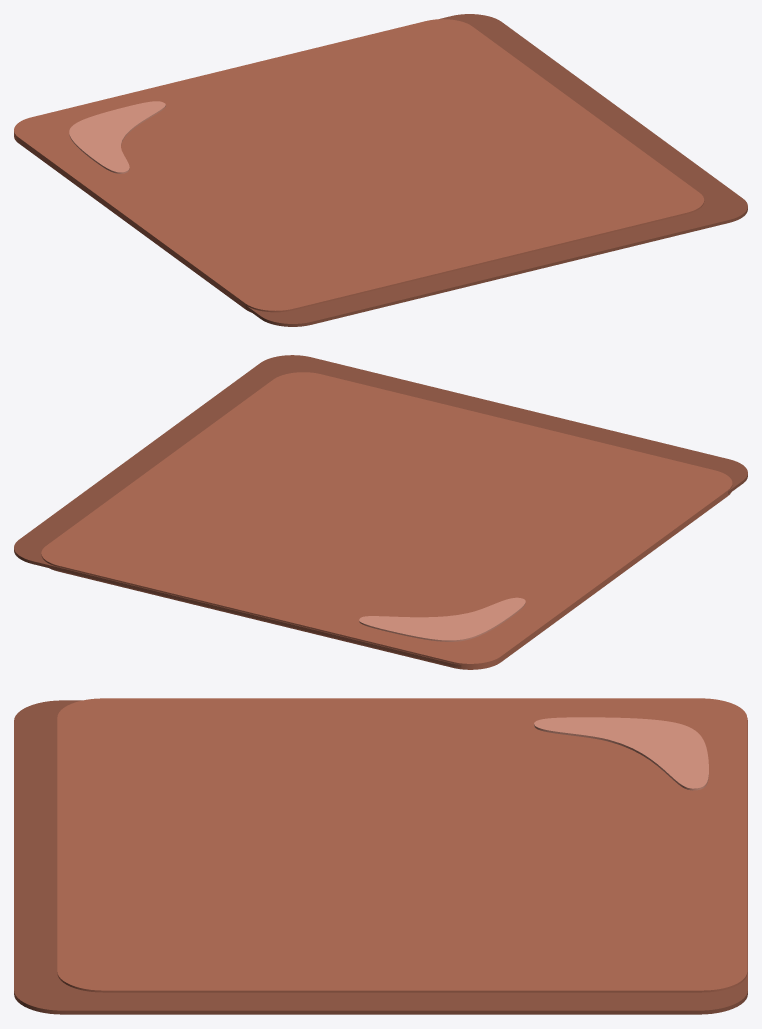
File: emoji_u1f7eb.glb
The picture shows the model from 3 angles, top to bottom: view 1: azimuth 30°, elevation 25°; view 2: azimuth 150°, elevation 25°; view 3: azimuth 270°, elevation 25°; orthographic projection. The views are drawn at different scales.
Parts seen in each view (by area): view 1: emoji_u1f7eb; view 2: emoji_u1f7eb; view 3: emoji_u1f7eb.
Boxes of the visible parts, x1,y1,x2,y2 form: emoji_u1f7eb: [14, 14, 747, 326]; emoji_u1f7eb: [14, 355, 747, 669]; emoji_u1f7eb: [14, 698, 747, 1014].
Bounding box in the file's own units: 0.0339 × 0.0006 × 0.0339.
